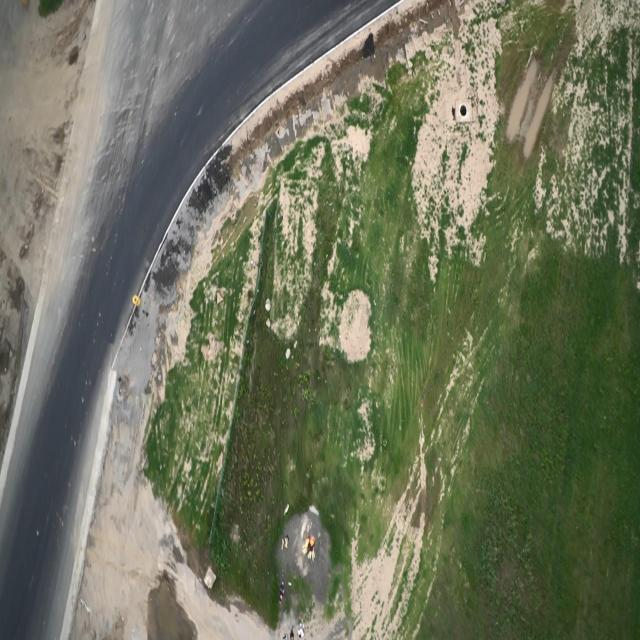fire: (304, 534, 324, 560)
